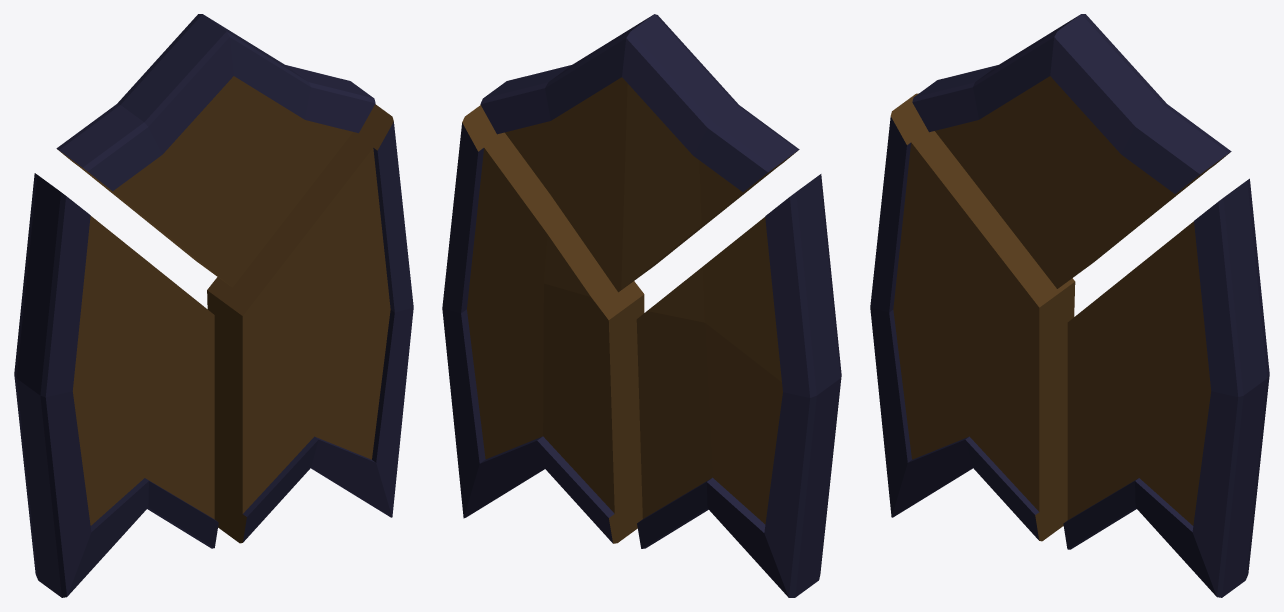
File: Shield01.fbx
3 views of the same model, side by side, from view 1: azimuth 30°, elevation 25°; view 2: azimuth 150°, elevation 25°; view 3: azimuth 330°, elevation 25° (orthographic).
Visible parts, largest first — view 1: Armor.002; view 2: Armor.002; view 3: Armor.002.
Boxes of the visible parts, x1=… form: Armor.002: x1=14, y1=14, x2=413, y2=597; Armor.002: x1=442, y1=14, x2=841, y2=597; Armor.002: x1=870, y1=14, x2=1269, y2=597.
Size of the model in its own units: 262 by 353 by 49.37.
